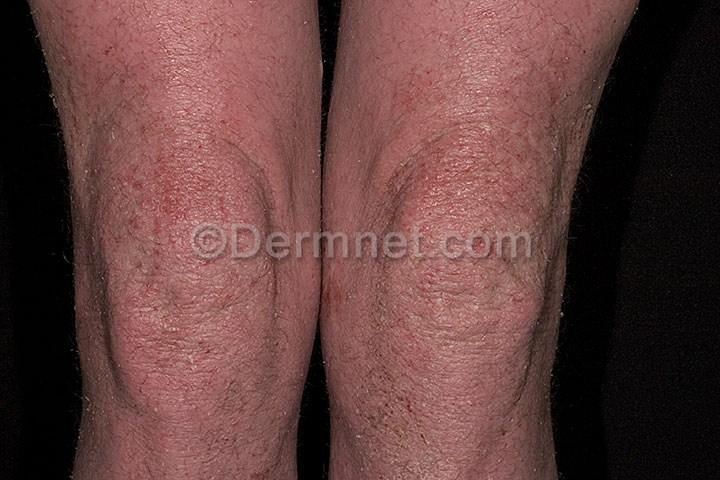Eritema 2: (29, 0, 662, 479)
exudacion 1: (359, 343, 436, 444)
xerosis 2: (26, 1, 114, 479), (352, 425, 508, 479)
